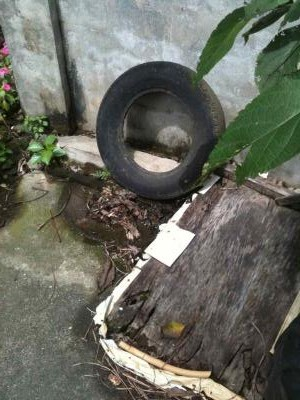tire: (91, 58, 231, 204)
